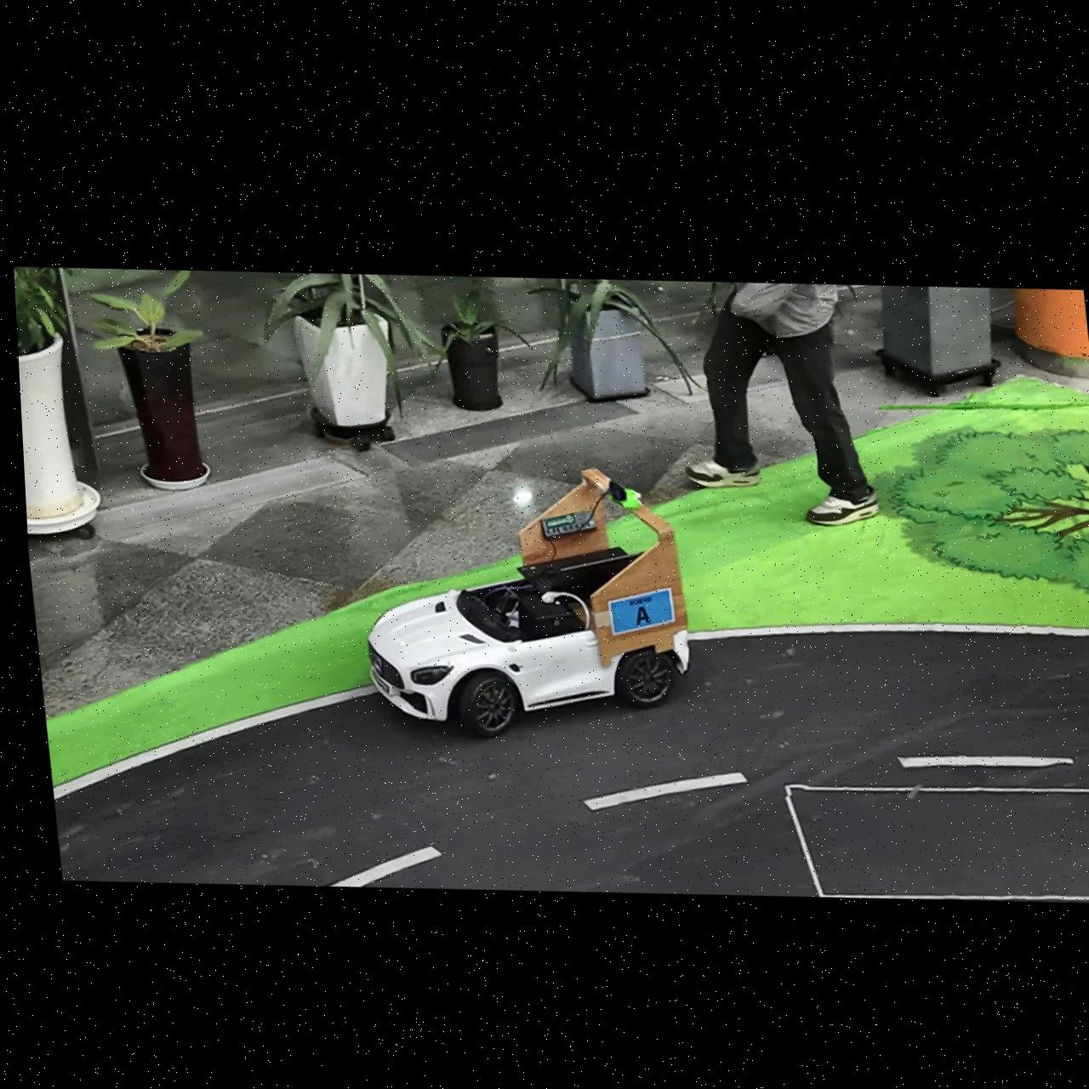broken_line: (584, 772, 746, 810), (329, 846, 441, 886), (899, 756, 1073, 767)
